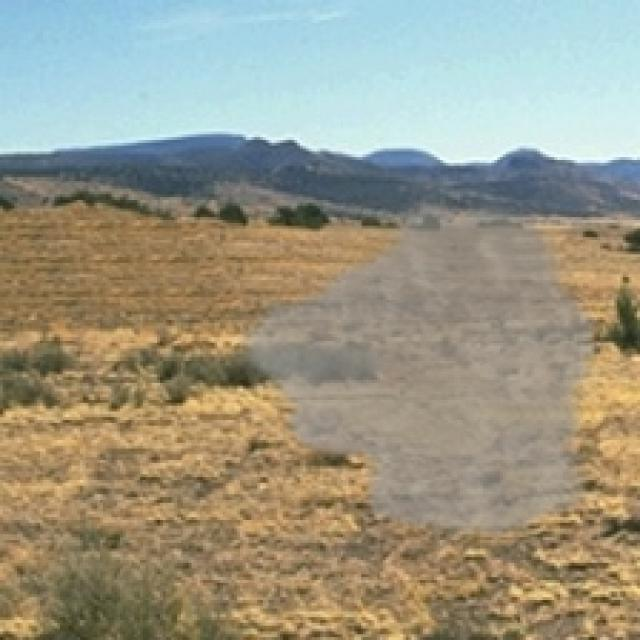smoke: (231, 191, 603, 546)
